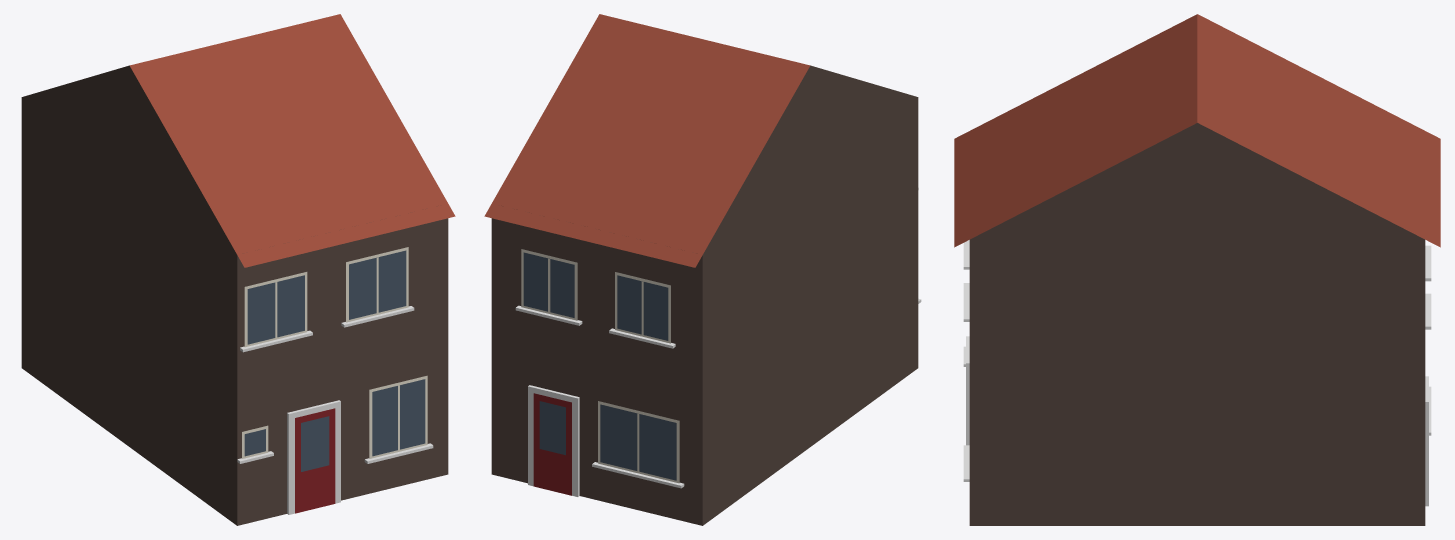
The model's file is nw-rowhouse-door-window__tile__2__gable__long__solid__mirror.glb.
The picture shows the model from 3 angles, left to right: view 1: azimuth 30°, elevation 25°; view 2: azimuth 150°, elevation 25°; view 3: azimuth 270°, elevation 25°; orthographic projection. The views are drawn at different scales.
Visible parts, largest first — view 1: nw-rowhouse-door-window__tile__2__gable__long__solid__mirror; view 2: nw-rowhouse-door-window__tile__2__gable__long__solid__mirror; view 3: nw-rowhouse-door-window__tile__2__gable__long__solid__mirror.
Part boxes in pixels (<box>): nw-rowhouse-door-window__tile__2__gable__long__solid__mirror: <box>21,14,455,525</box>; nw-rowhouse-door-window__tile__2__gable__long__solid__mirror: <box>484,14,921,525</box>; nw-rowhouse-door-window__tile__2__gable__long__solid__mirror: <box>954,14,1440,525</box>.
Bounding box in the file's own units: 4.97 × 8.58 × 9.39.
